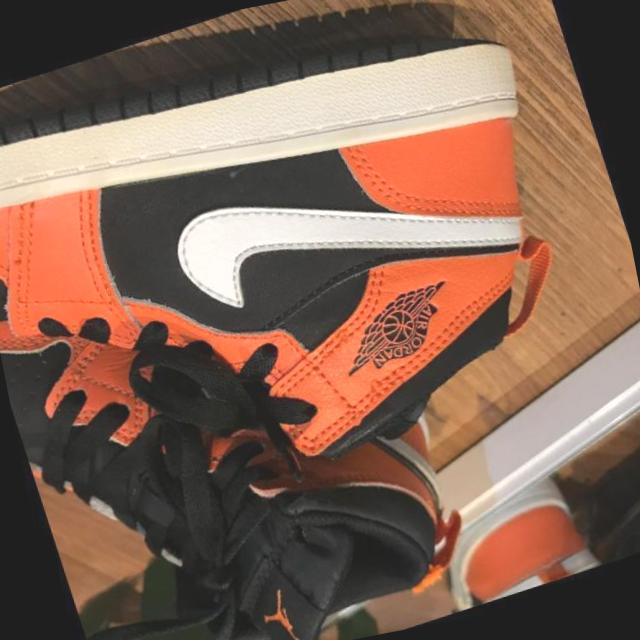nike_fake_jordan: (0, 0, 627, 550), (2, 274, 488, 640)
